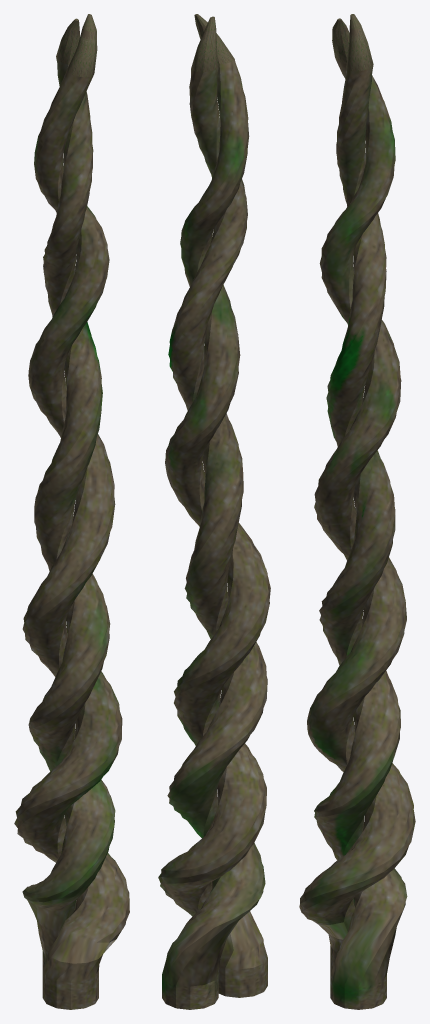
File: Big tree.fbx
3 renders of one model, left to right at view 1: azimuth 90°, elevation 25°; view 2: azimuth 210°, elevation 25°; view 3: azimuth 270°, elevation 25°, orthographic.
Visible parts, largest first — view 1: Big_tree; view 2: Big_tree; view 3: Big_tree.
Boxes of the visible parts, <box> form: Big_tree: <box>14,14,129,1009</box>; Big_tree: <box>158,14,270,1009</box>; Big_tree: <box>299,14,415,1009</box>.
Size of the model in its own units: 1582 by 14871 by 1613.
Materials: 1 (1 with a texture image).
